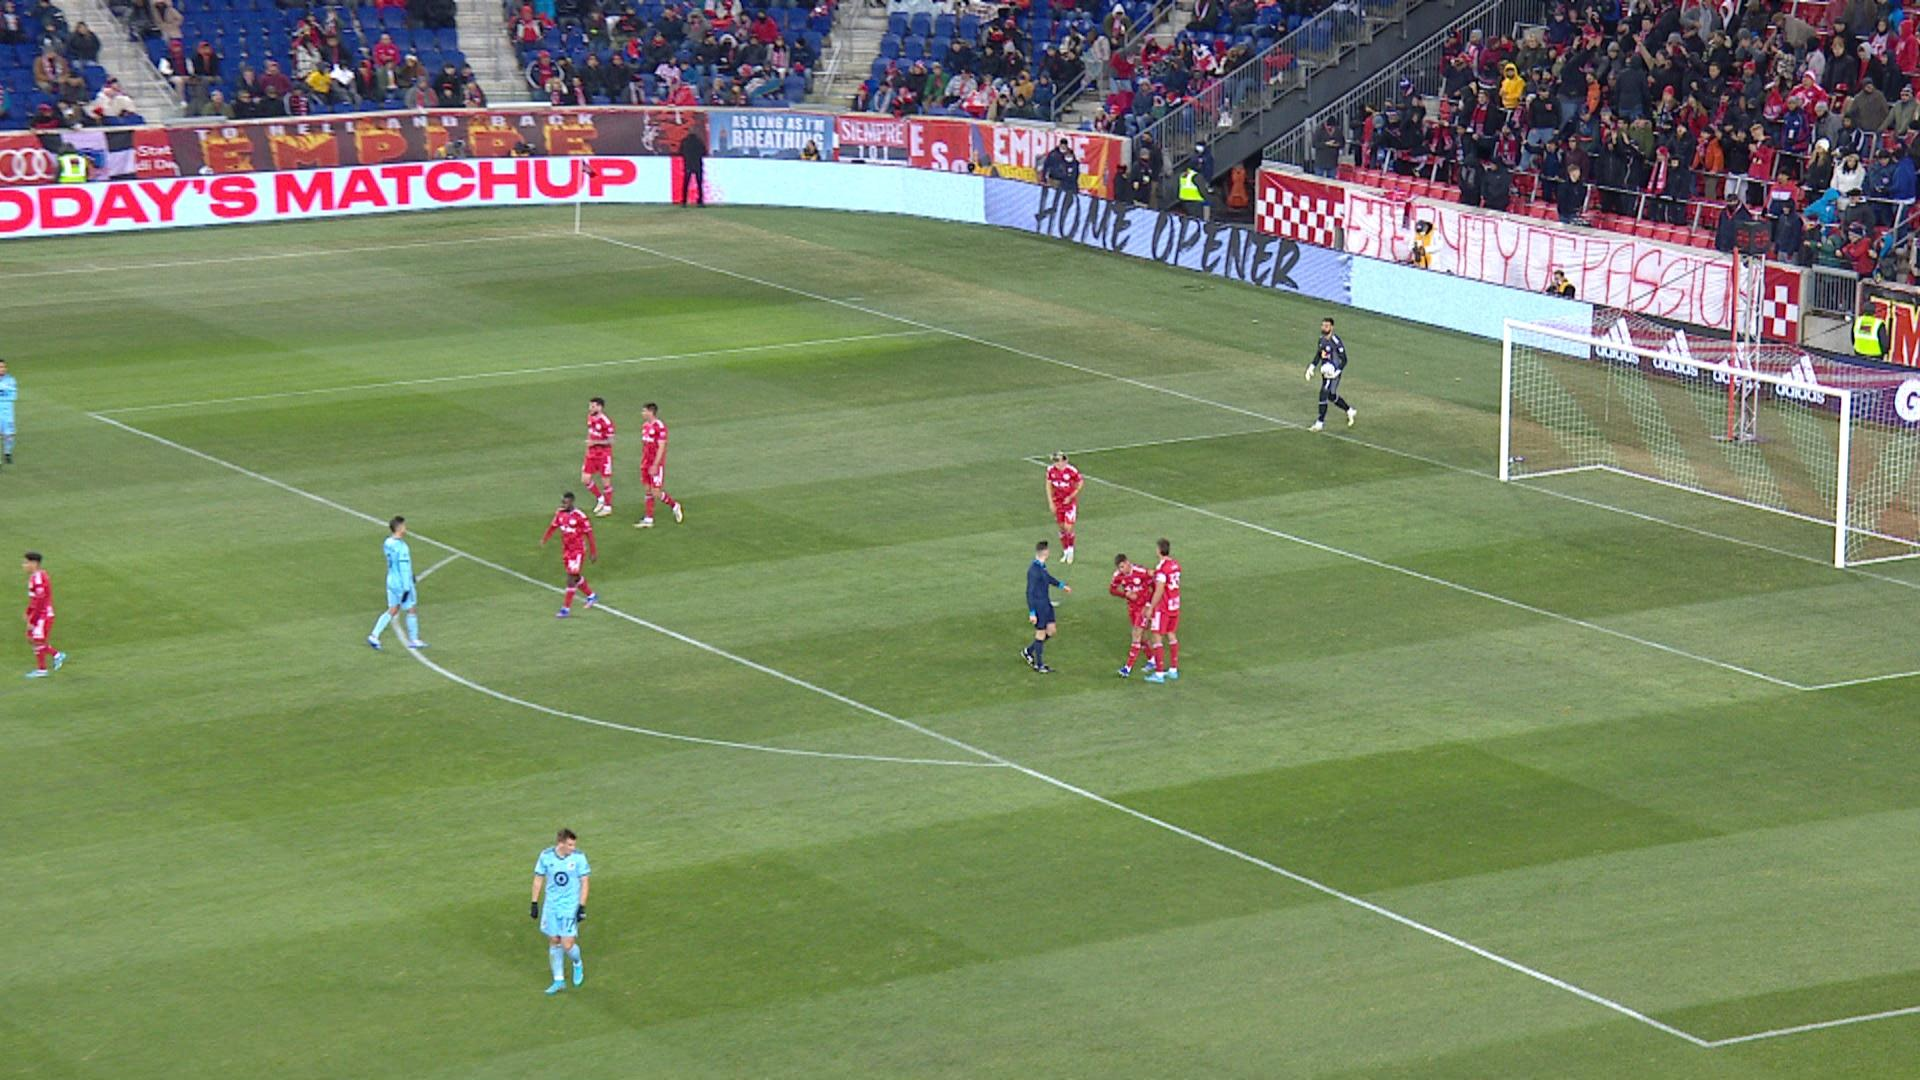football: (1321, 364, 1333, 372)
